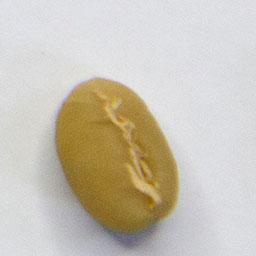defect: (54, 75, 183, 237)
